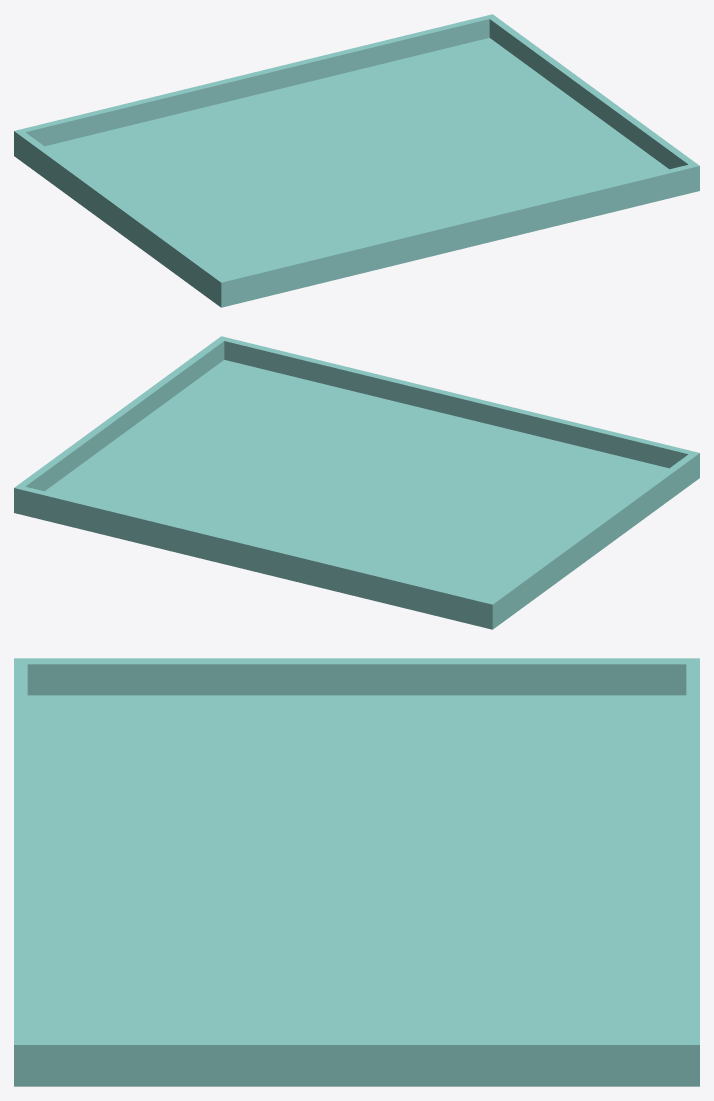
The model's file is cage_base.glb.
3 renders of one model, top to bottom at view 1: azimuth 30°, elevation 25°; view 2: azimuth 150°, elevation 25°; view 3: azimuth 270°, elevation 25°, orthographic. The views are drawn at different scales.
Parts seen in each view (by area): view 1: tray; view 2: tray; view 3: tray.
Part boxes in pixels (left/top/right/bottom): tray: left=14, top=14, right=699, bottom=307; tray: left=14, top=336, right=699, bottom=629; tray: left=14, top=658, right=699, bottom=1086.
Size of the model in its own units: 4 by 0.2 by 3.
